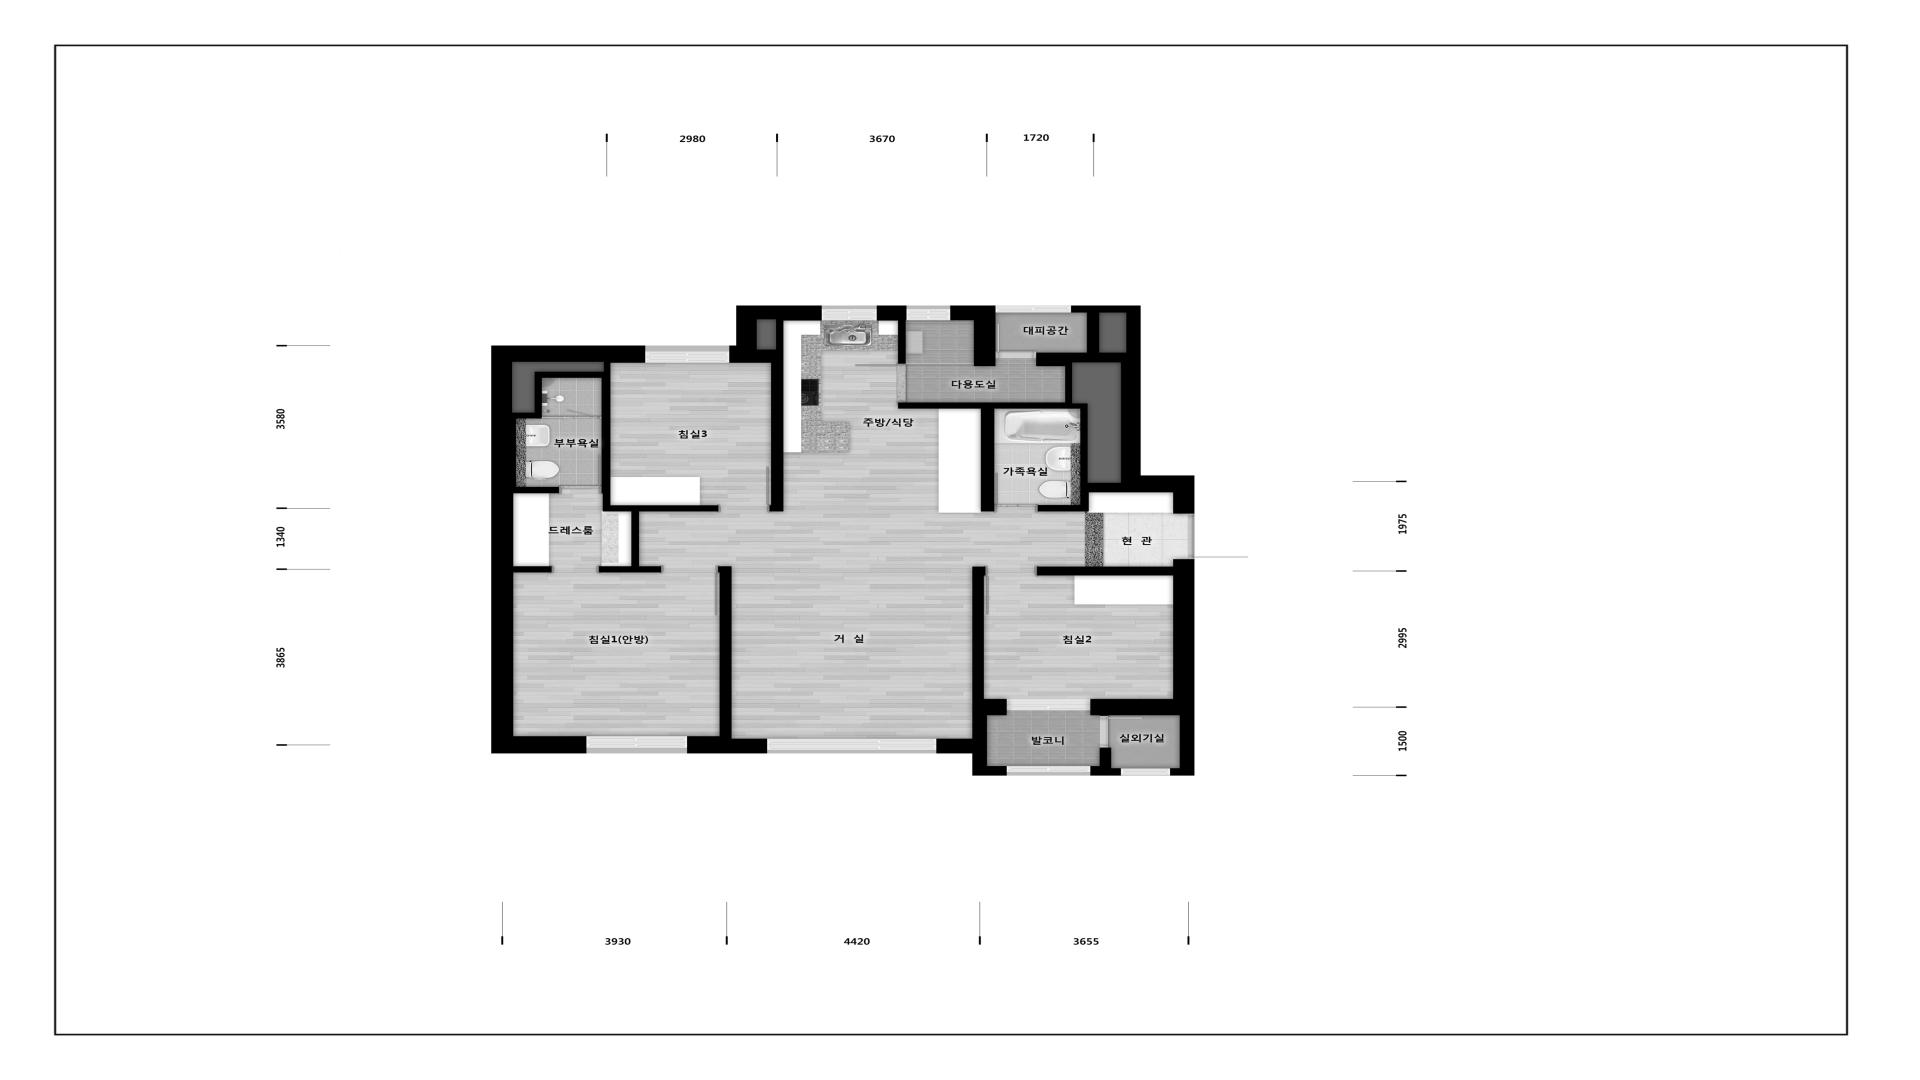door: (661, 566, 719, 616), (1188, 514, 1249, 559), (985, 566, 1038, 615), (719, 467, 770, 513), (559, 454, 601, 495), (994, 472, 1038, 512), (996, 323, 1036, 359), (1100, 716, 1143, 748), (553, 566, 599, 574), (566, 409, 601, 418)
wall: (491, 345, 645, 753), (1071, 306, 1195, 513), (1170, 559, 1195, 775), (729, 306, 822, 363), (1036, 352, 1121, 402), (513, 372, 601, 418), (1080, 409, 1121, 505), (936, 738, 1006, 775), (719, 566, 732, 736), (769, 363, 783, 512), (972, 567, 985, 699), (1091, 699, 1174, 716), (687, 736, 767, 753), (972, 699, 1006, 738), (981, 409, 994, 512), (601, 363, 611, 505), (898, 402, 1088, 409), (757, 320, 783, 363), (1036, 567, 1174, 575), (973, 320, 996, 367), (603, 505, 719, 512), (951, 306, 996, 320), (1087, 313, 1100, 352), (632, 512, 640, 566), (877, 306, 906, 320), (599, 566, 661, 572), (898, 320, 906, 364), (1038, 505, 1089, 512), (513, 487, 559, 493), (1091, 766, 1121, 775), (513, 566, 553, 572), (1100, 748, 1112, 766), (542, 417, 566, 418)
window: (767, 738, 936, 753), (587, 736, 687, 753), (645, 345, 729, 363), (1007, 699, 1091, 711), (822, 306, 877, 320), (1006, 766, 1091, 775), (906, 306, 951, 320), (996, 305, 1071, 313), (1121, 767, 1170, 775)
